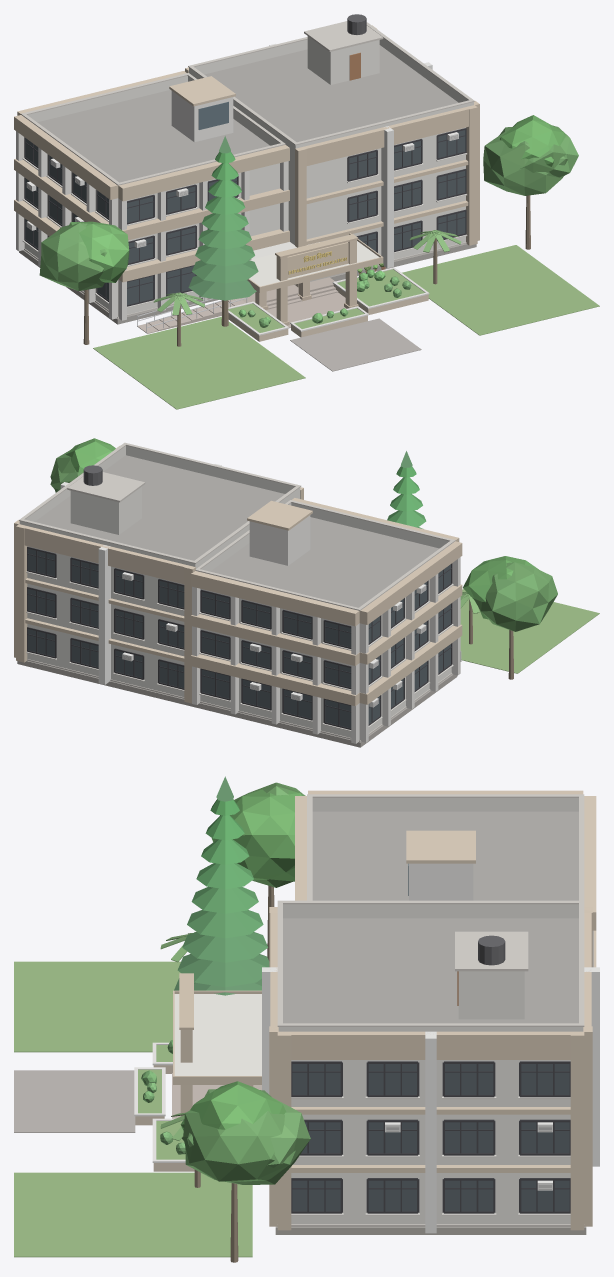
File: iit_kgp_education_dept.glb
The picture shows the model from 3 angles, top to bottom: view 1: azimuth 30°, elevation 25°; view 2: azimuth 150°, elevation 25°; view 3: azimuth 270°, elevation 25°; orthographic projection. The views are drawn at different scales.
Parts seen in each view (by area): view 1: Department Building, Planters, Ramp + Trees, Entrance Portico + Sign; view 2: Department Building, Planters, Ramp + Trees; view 3: Department Building, Planters, Ramp + Trees, Entrance Portico + Sign.
Boxes of the visible parts, x1,y1,x2,y2 form: Department Building: (14, 14, 479, 324); Planters, Ramp + Trees: (39, 115, 599, 409); Entrance Portico + Sign: (240, 233, 383, 328); Department Building: (14, 442, 462, 747); Planters, Ramp + Trees: (50, 438, 599, 679); Department Building: (262, 790, 599, 1234); Planters, Ramp + Trees: (14, 776, 310, 1262); Entrance Portico + Sign: (172, 973, 261, 1118).
Size of the model in its own units: 46.23 by 16.3 by 31.9.
